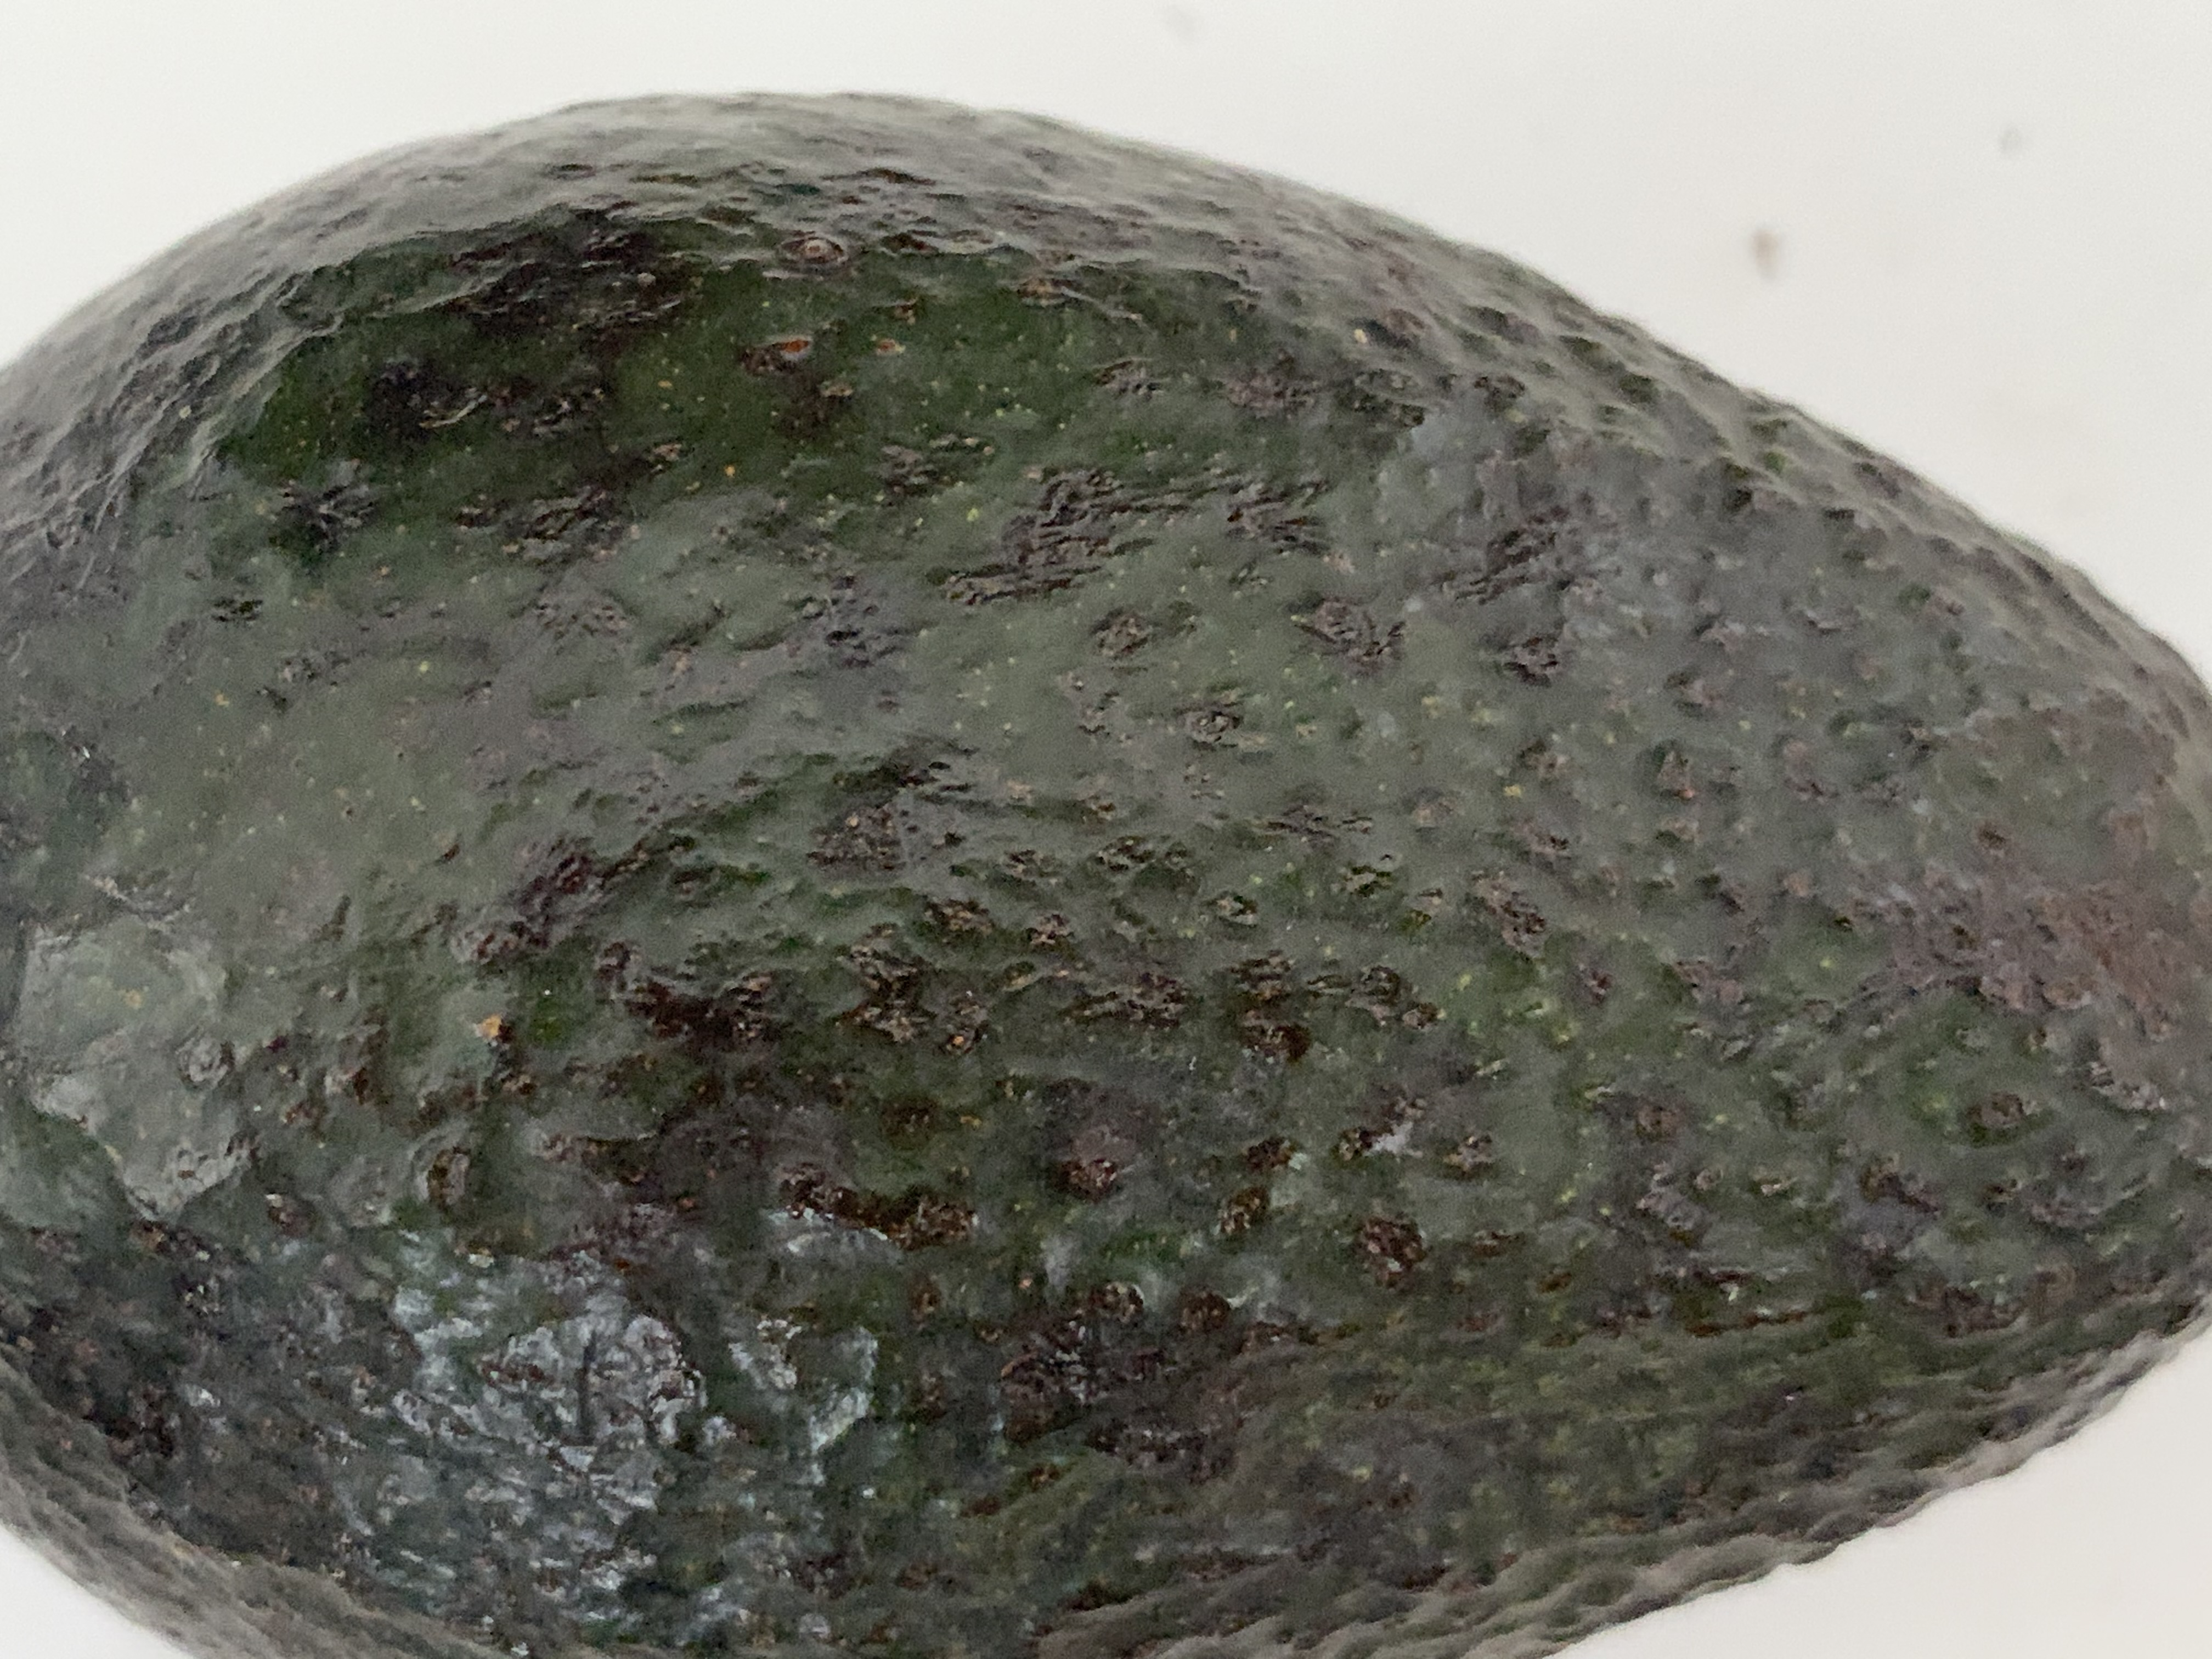avocado: (9, 105, 2212, 1645)
